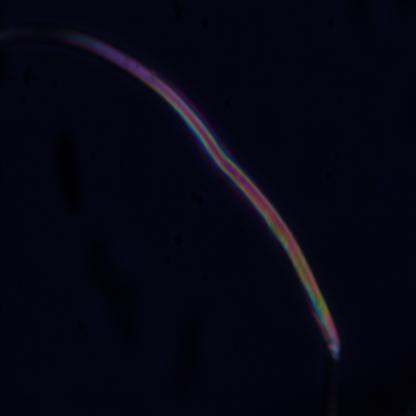Background material: (78, 231, 147, 363), (50, 123, 88, 210)
Microfibre: (0, 21, 342, 358)
